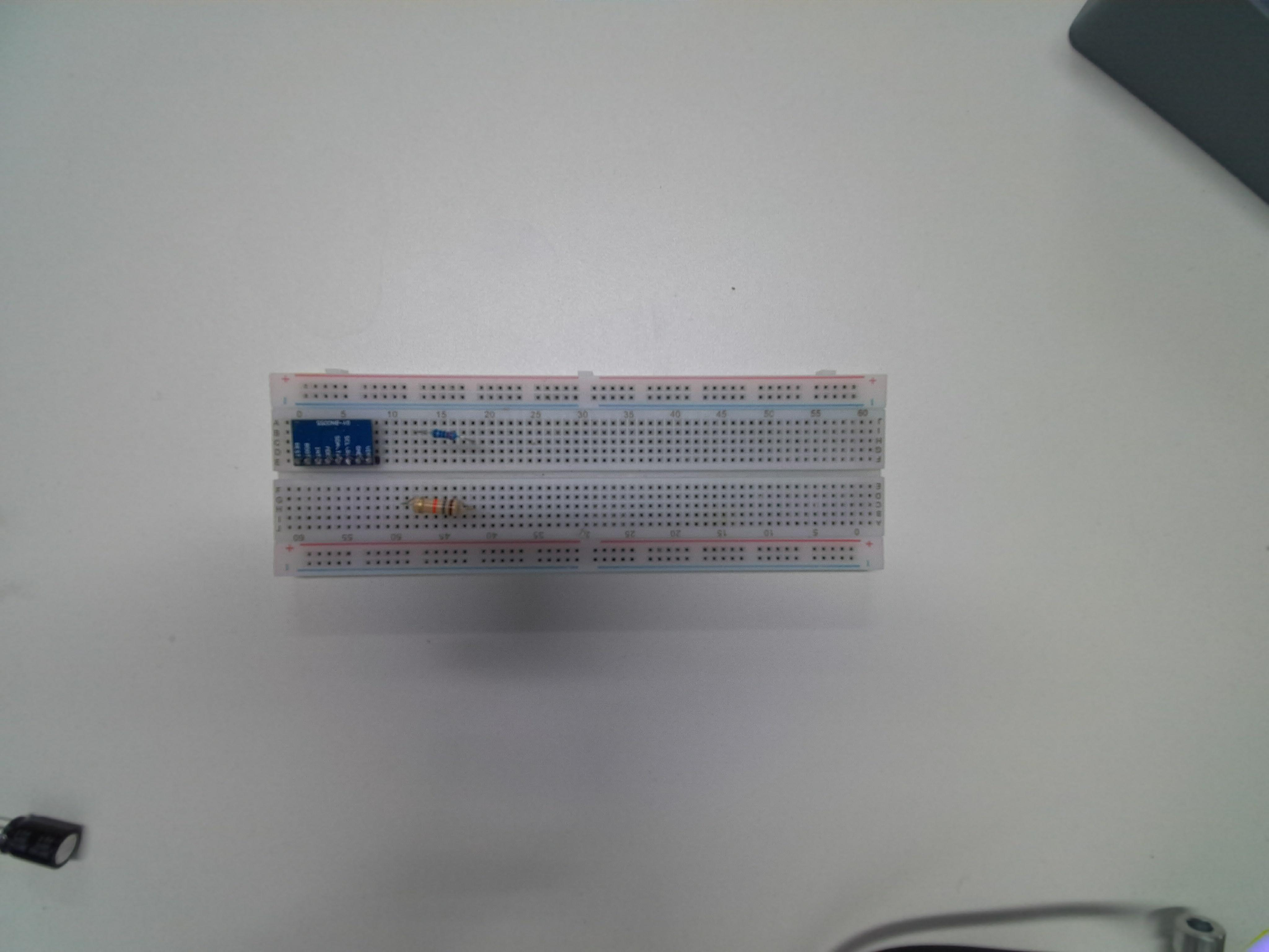base: (267, 372, 889, 581)
blue-board: (288, 417, 379, 469)
capacitor: (0, 814, 86, 869)
resistor-big: (408, 495, 467, 518)
resistor-small: (429, 421, 466, 443)
